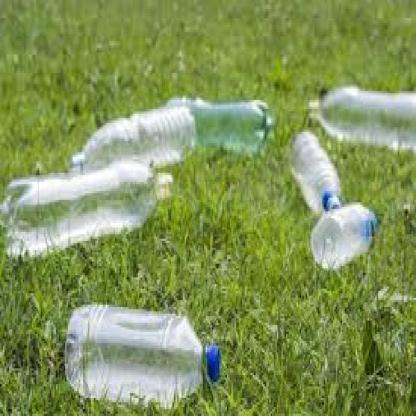Plastic Bottle: (0, 161, 172, 256), (65, 305, 221, 409), (72, 103, 194, 173), (309, 86, 416, 151), (168, 98, 275, 152), (311, 203, 379, 270), (292, 131, 341, 214)
